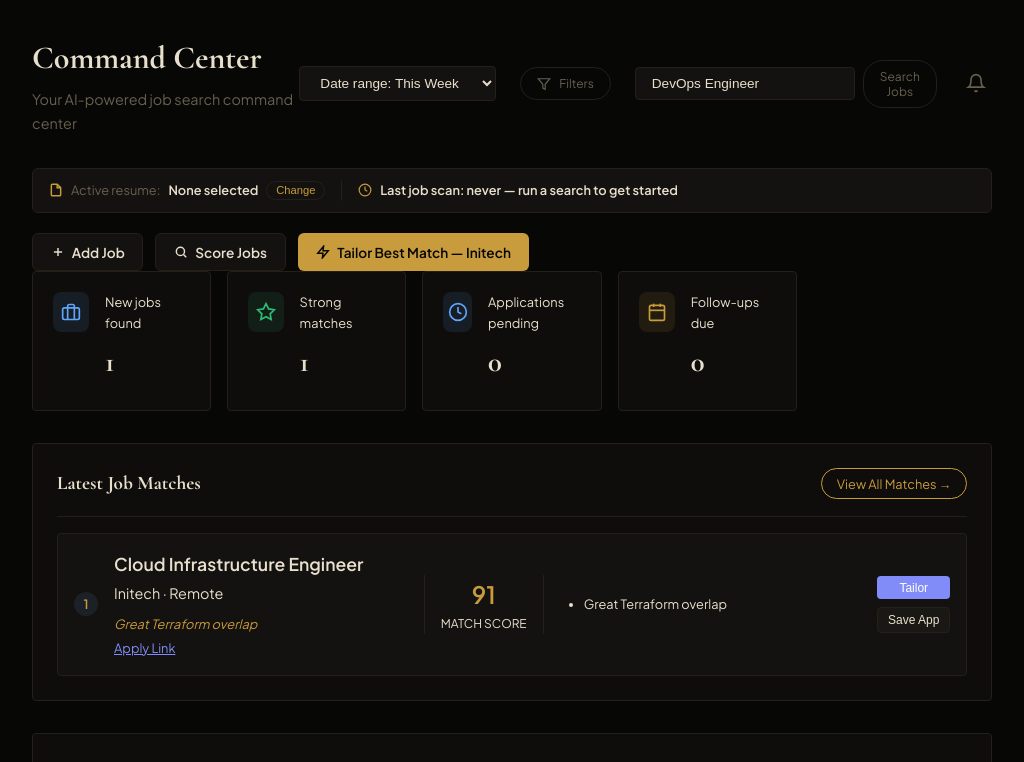
Test: CommandCenter — job detail workspace integration › opens the Job Detail Workspace when a job card is clicked
Click the text "Cloud Infrastructure Engineer" at (239, 564), box [114, 553, 363, 575]
(page scrolled)
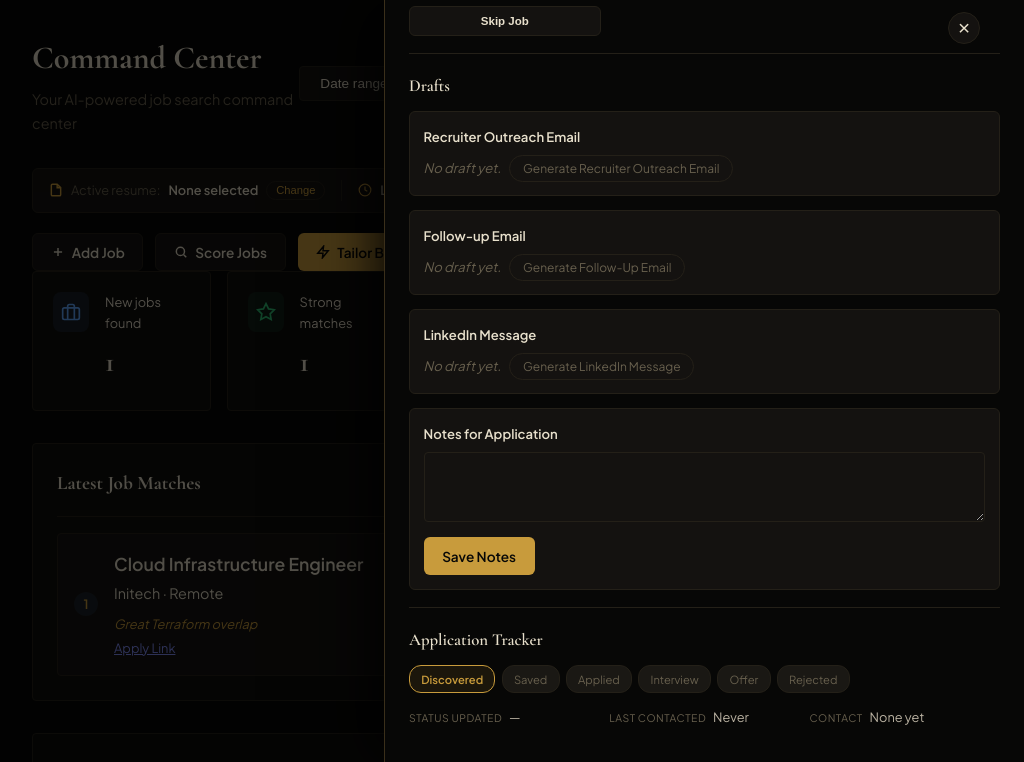
Now the text "Application Tracker" is shown, box [409, 629, 543, 650]
